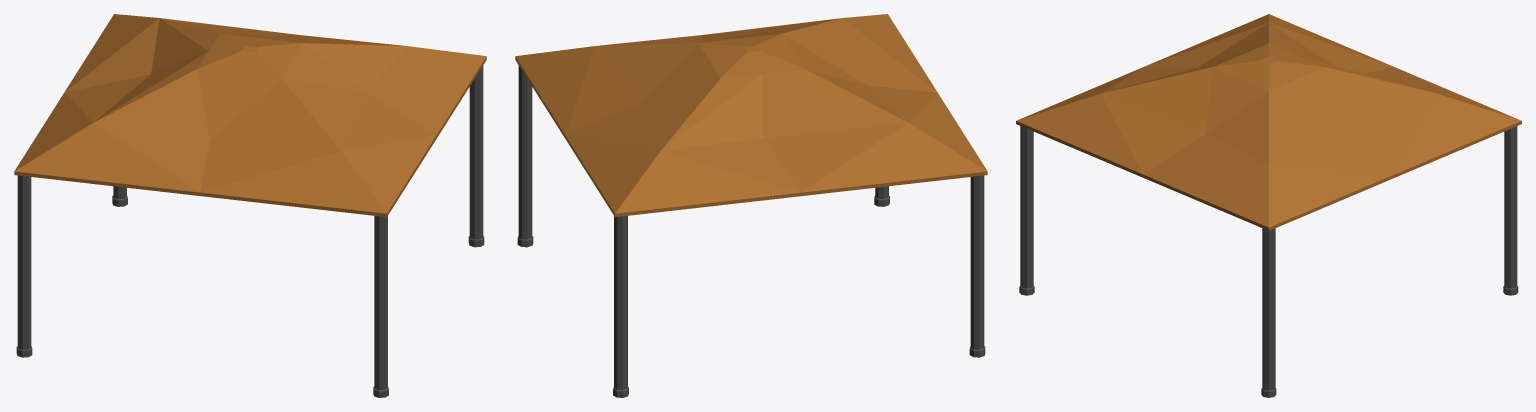
File: TT_tent_orange.fbx
3 views of the same model, side by side, from view 1: azimuth 30°, elevation 25°; view 2: azimuth 150°, elevation 25°; view 3: azimuth 270°, elevation 25° (orthographic). The views are drawn at different scales.
Parts seen in each view (by area): view 1: Indian_tent_orange; view 2: Indian_tent_orange; view 3: Indian_tent_orange.
Boxes of the visible parts, x1,y1,x2,y2 form: Indian_tent_orange: (14,14,486,397); Indian_tent_orange: (515,14,987,397); Indian_tent_orange: (1016,14,1521,397).
Bounding box in the file's own units: 80.08 × 40.53 × 80.08.
